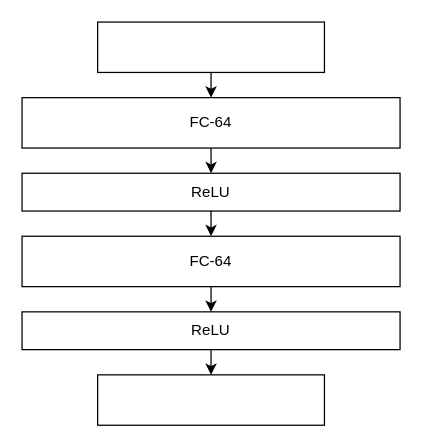
Image size: 422x447. Some labels were removed from this diagram. Each missing label, with the centre of its shape:
Input-37: the point at 210,46
Output-4: the point at 210,399
